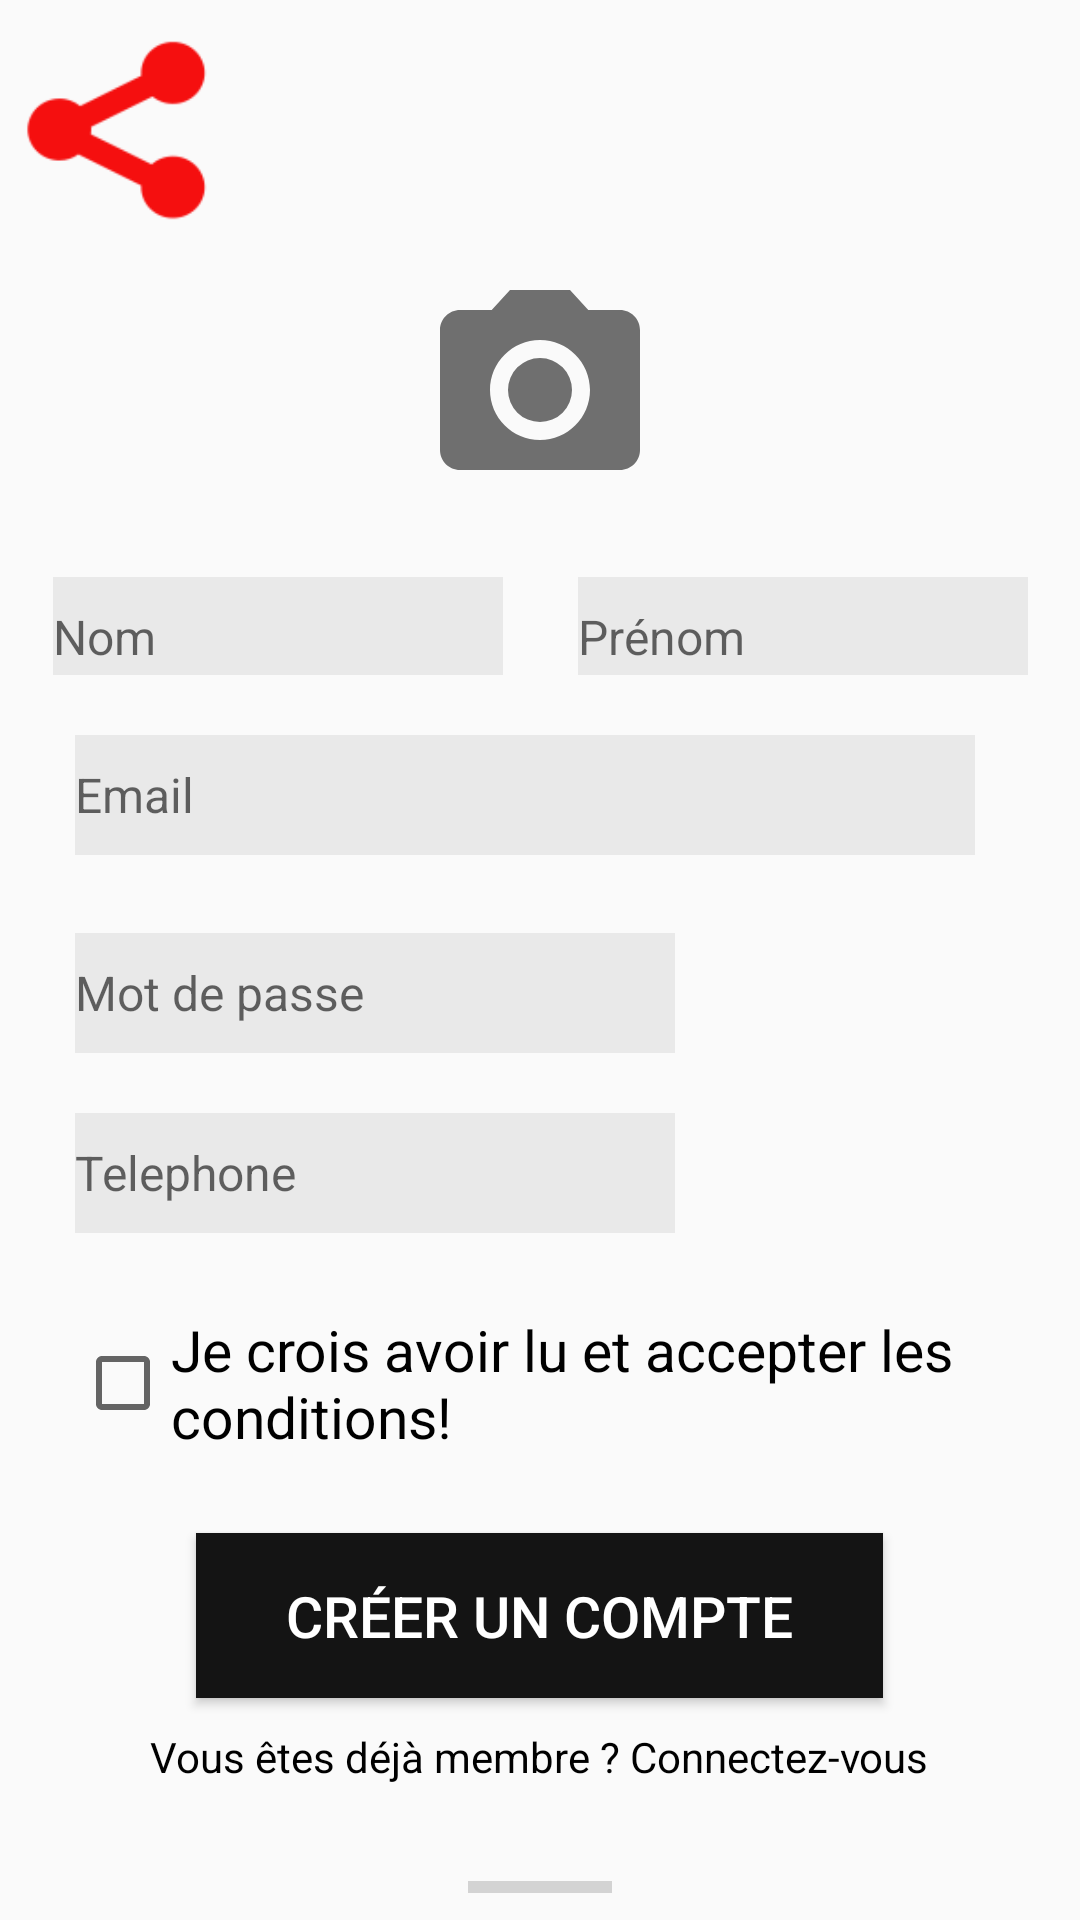

Where to tap for icons on this 1080x1920 app screen, as point (x, y):
camera: point (540, 380)
